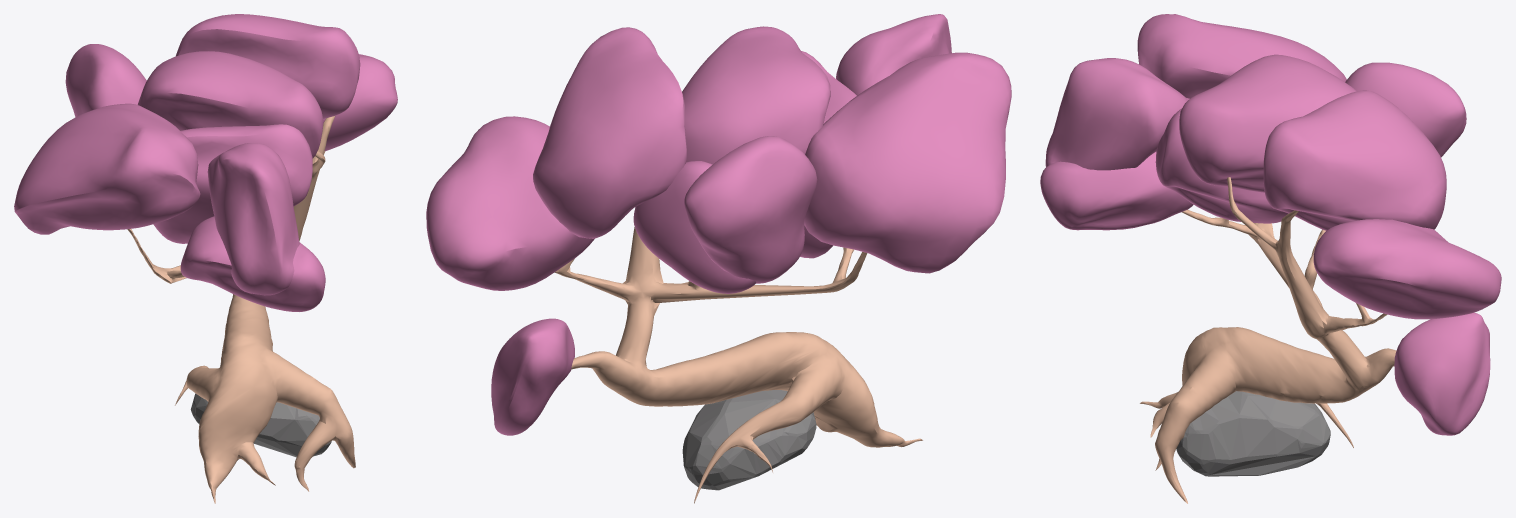
Rendered from sakura.glb.
3 views of the same model, side by side, from view 1: azimuth 30°, elevation 25°; view 2: azimuth 150°, elevation 25°; view 3: azimuth 270°, elevation 25° (orthographic). The views are drawn at different scales.
Parts seen in each view (by area): view 1: leafs, trunc, rock; view 2: leafs, trunc, rock; view 3: leafs, trunc, rock.
Boxes of the visible parts, left/top/right/bottom form: leafs: left=14, top=14, right=397, bottom=311; trunc: left=127, top=116, right=355, bottom=503; rock: left=190, top=393, right=331, bottom=457; leafs: left=426, top=14, right=1011, bottom=435; trunc: left=554, top=227, right=922, bottom=503; rock: left=682, top=390, right=816, bottom=490; leafs: left=1040, top=14, right=1501, bottom=435; trunc: left=1140, top=177, right=1396, bottom=503; rock: left=1176, top=391, right=1330, bottom=476.
Size of the model in its own units: 3.5 by 3.15 by 3.39.
